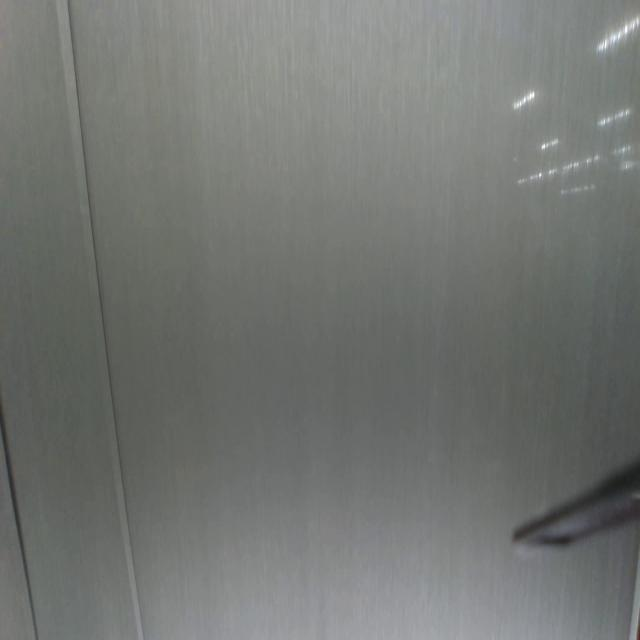crease: (55, 0, 146, 637), (1, 397, 41, 640)
